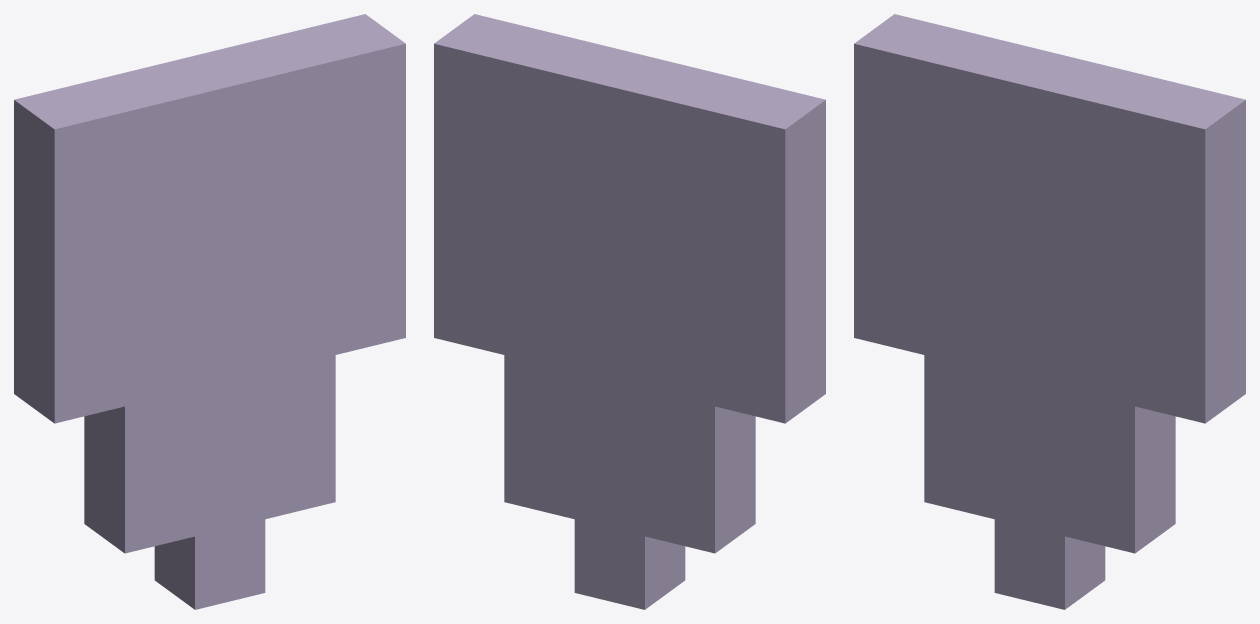
The model's file is Shield-Small-Grey.vox.obj.
3 renders of one model, left to right at view 1: azimuth 30°, elevation 25°; view 2: azimuth 150°, elevation 25°; view 3: azimuth 330°, elevation 25°, orthographic.
Size of the model in its own units: 0.5 by 0.7 by 0.1.
Materials: 1 (1 with a texture image).
